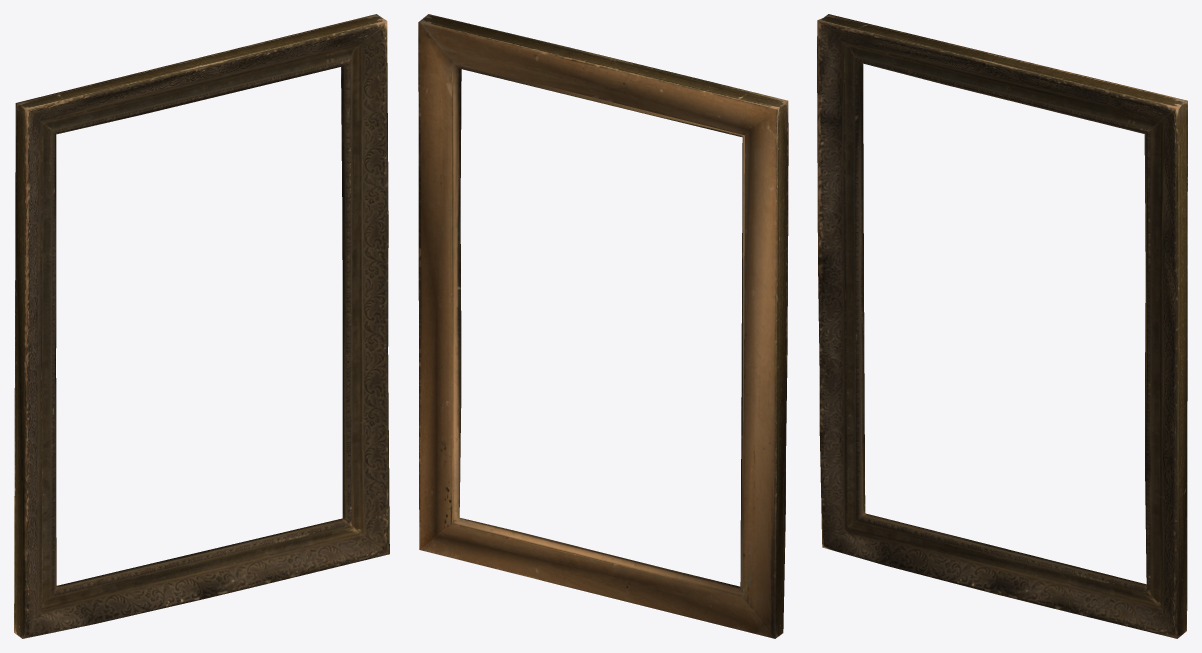
File: frame.glb
3 renders of one model, left to right at view 1: azimuth 30°, elevation 25°; view 2: azimuth 150°, elevation 25°; view 3: azimuth 330°, elevation 25°, orthographic.
Parts seen in each view (by area): view 1: ukkpdhqbw_LOD0_TIER3_000; view 2: ukkpdhqbw_LOD0_TIER3_000; view 3: ukkpdhqbw_LOD0_TIER3_000.
Part boxes in pixels (x1,y1,x2,y2): ukkpdhqbw_LOD0_TIER3_000: (14, 14, 389, 638); ukkpdhqbw_LOD0_TIER3_000: (418, 14, 788, 638); ukkpdhqbw_LOD0_TIER3_000: (817, 14, 1187, 638).
Bounding box in the file's own units: 0.6417 × 0.901 × 0.0428.
1 material, 1 textured.
